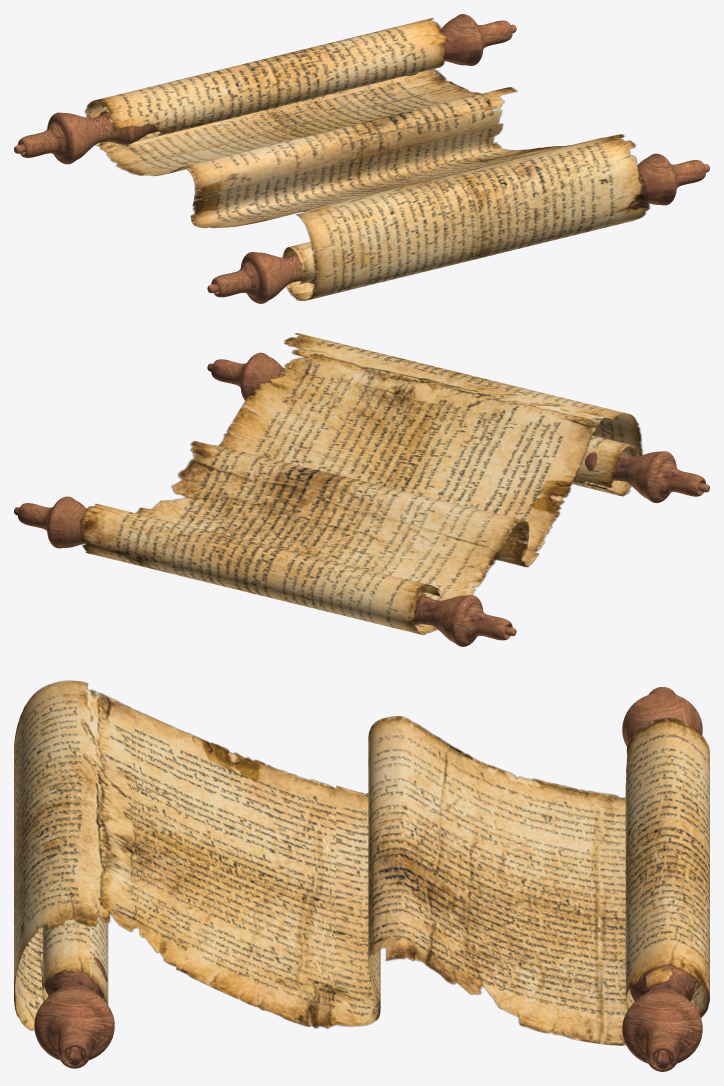
File: ancient_scroll_and_parchment.glb
The picture shows the model from 3 angles, top to bottom: view 1: azimuth 30°, elevation 25°; view 2: azimuth 150°, elevation 25°; view 3: azimuth 270°, elevation 25°; orthographic projection. The views are drawn at different scales.
Parts seen in each view (by area): view 1: Papyrus_0, wooden pole 1_1, wooden pole 2_2; view 2: Papyrus_0, wooden pole 1_1, wooden pole 2_2; view 3: Papyrus_0, wooden pole 1_1, wooden pole 2_2.
Part boxes in pixels (bbox=[...]): Papyrus_0: bbox=[84, 18, 649, 300]; wooden pole 1_1: bbox=[14, 14, 516, 164]; wooden pole 2_2: bbox=[207, 153, 709, 303]; Papyrus_0: bbox=[79, 333, 643, 634]; wooden pole 1_1: bbox=[14, 496, 516, 646]; wooden pole 2_2: bbox=[207, 352, 709, 503]; Papyrus_0: bbox=[14, 680, 709, 1045]; wooden pole 1_1: bbox=[622, 687, 702, 1071]; wooden pole 2_2: bbox=[34, 957, 114, 1068].
Bounding box in the file's own units: 6.02 × 0.9056 × 4.77.
2 materials, 2 textured.
